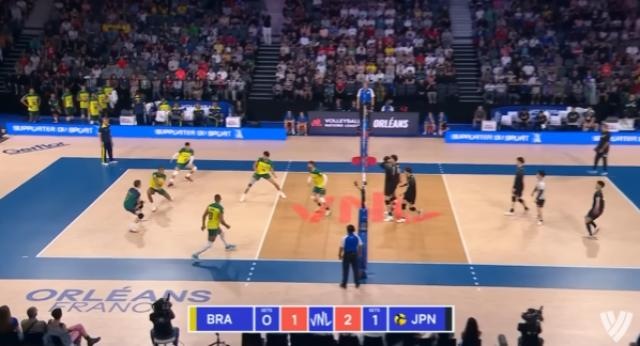Levantador: (300, 154, 332, 215)
Libero: (120, 175, 150, 235), (528, 168, 554, 222)
